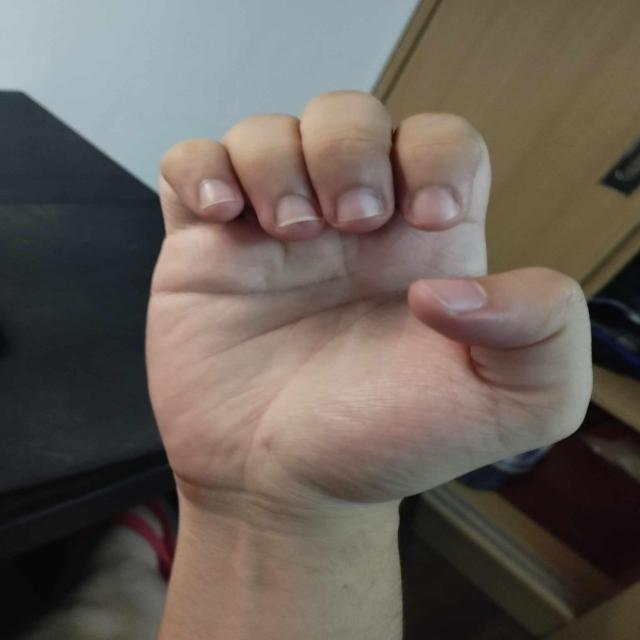E: (138, 88, 598, 510)
